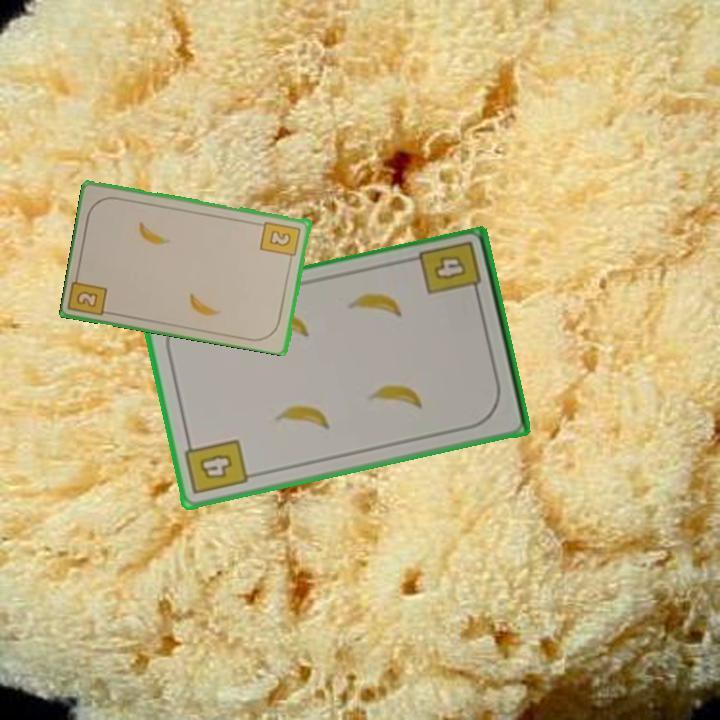2b: (258, 217, 304, 265), (73, 287, 101, 311)
4b: (416, 238, 485, 303), (182, 436, 251, 498)
